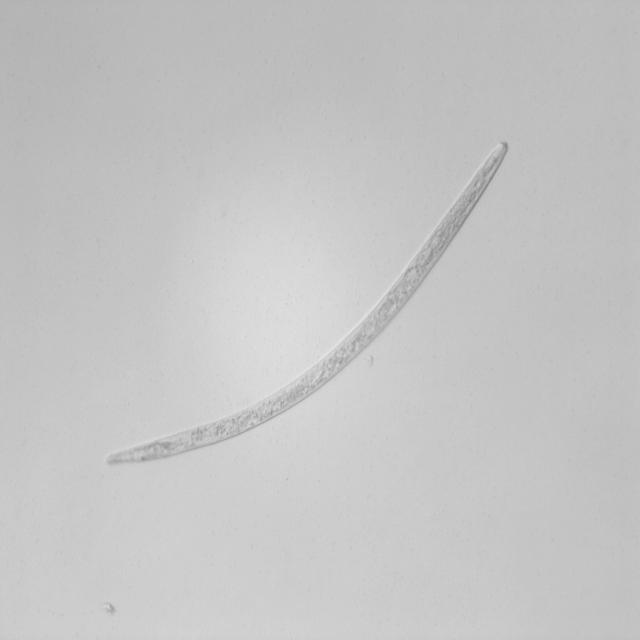Radopholus: (99, 133, 509, 471)
